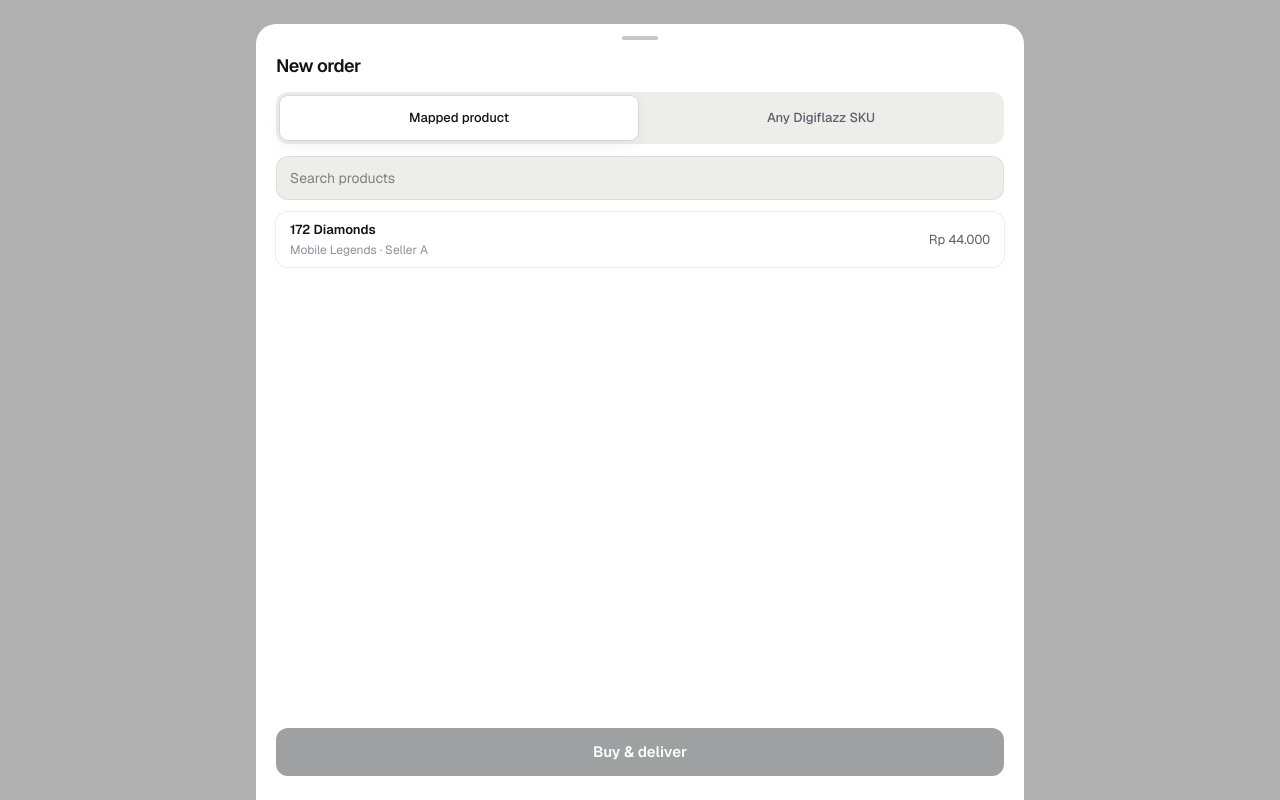
NewOrderSheet › buyErrorWithIdFollowsOrderAndHidesSubmit
Click the button "172 Diamonds Mobile Legends · Seller A Rp 44.000": (333, 230) [276,212,1004,267]
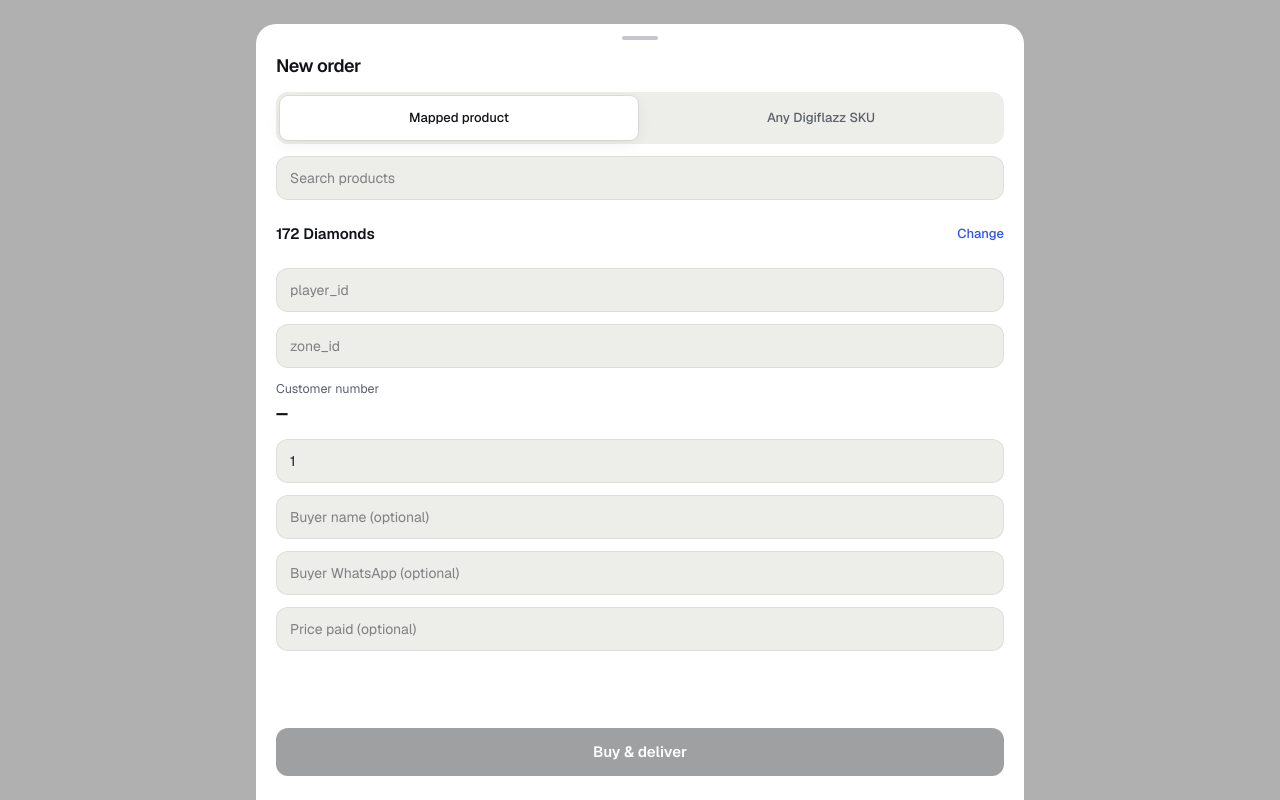
In the field labelled "player_id": (640, 290) [276,268,1004,312], type "1"
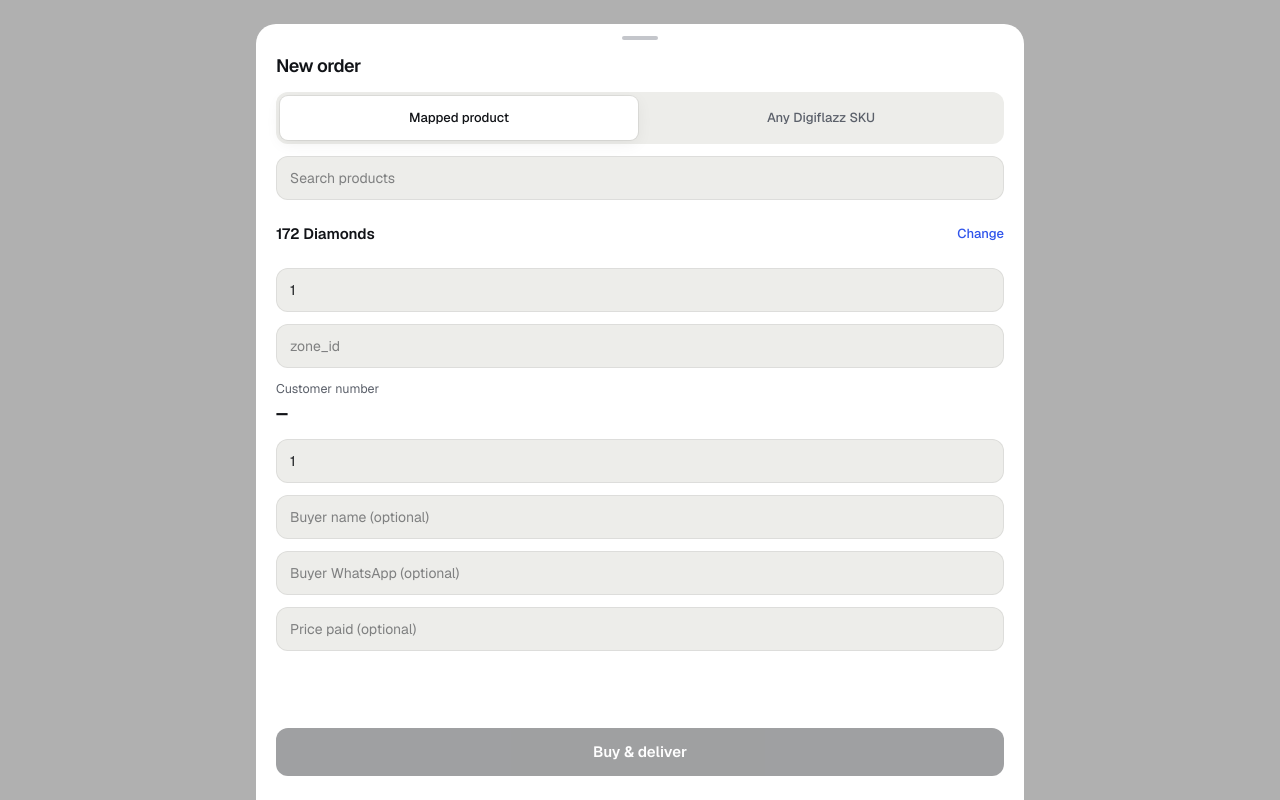
In the field labelled "zone_id": (640, 346) [276,324,1004,368], type "2"
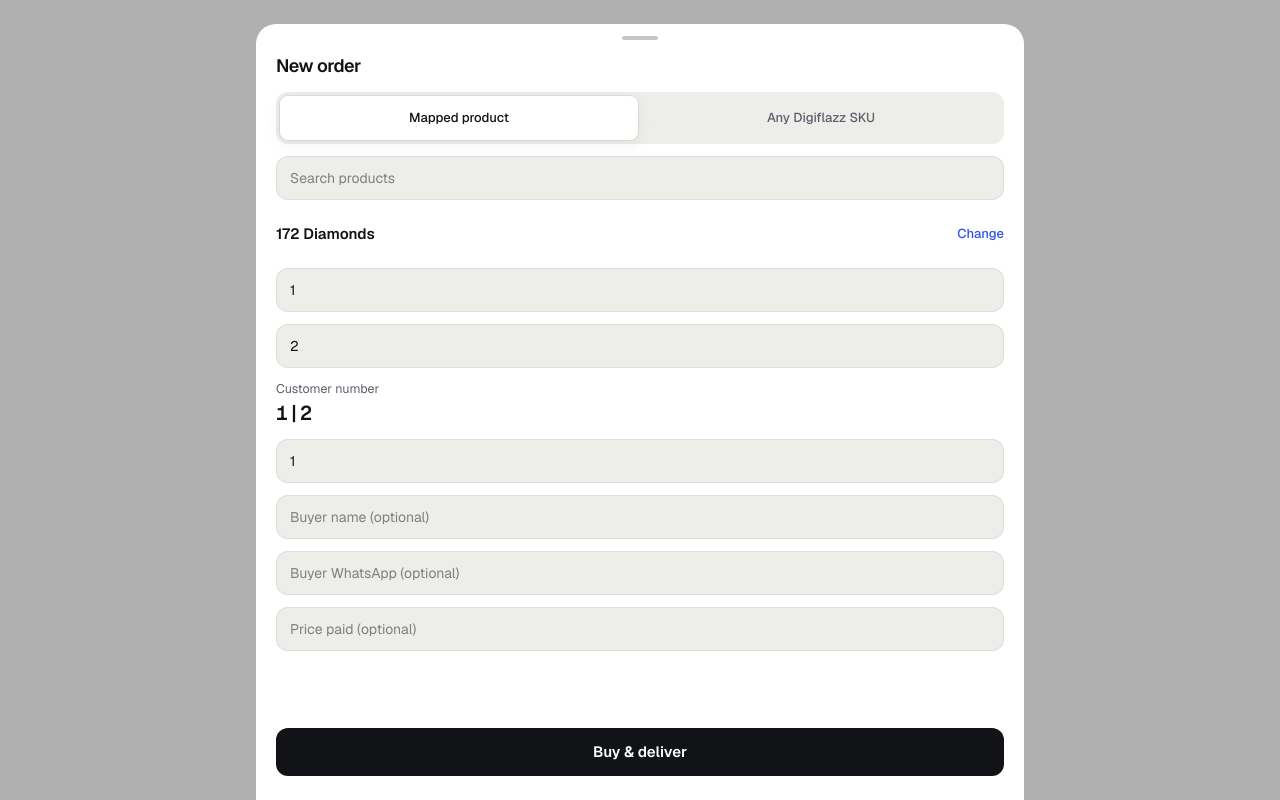
Click the button "Buy & deliver": (640, 752) [276,728,1004,776]
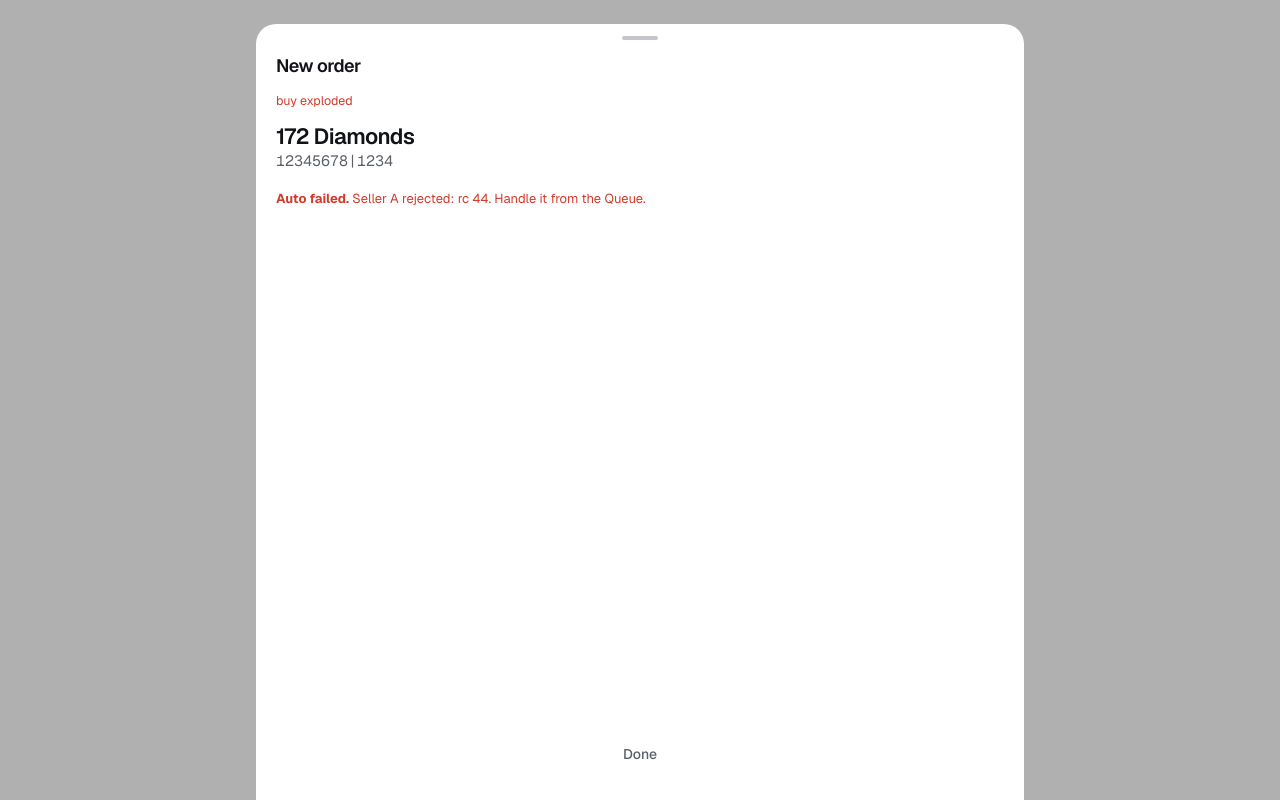
expect the text "buy exploded" is shown: met, box [276,92,353,109]
expect the text "Auto failed. Seller A rejected: rc 44. Handle it from the Queue." is shown: met, box [276,190,646,207]
expect the button "Buy & deliver" is gone: met
